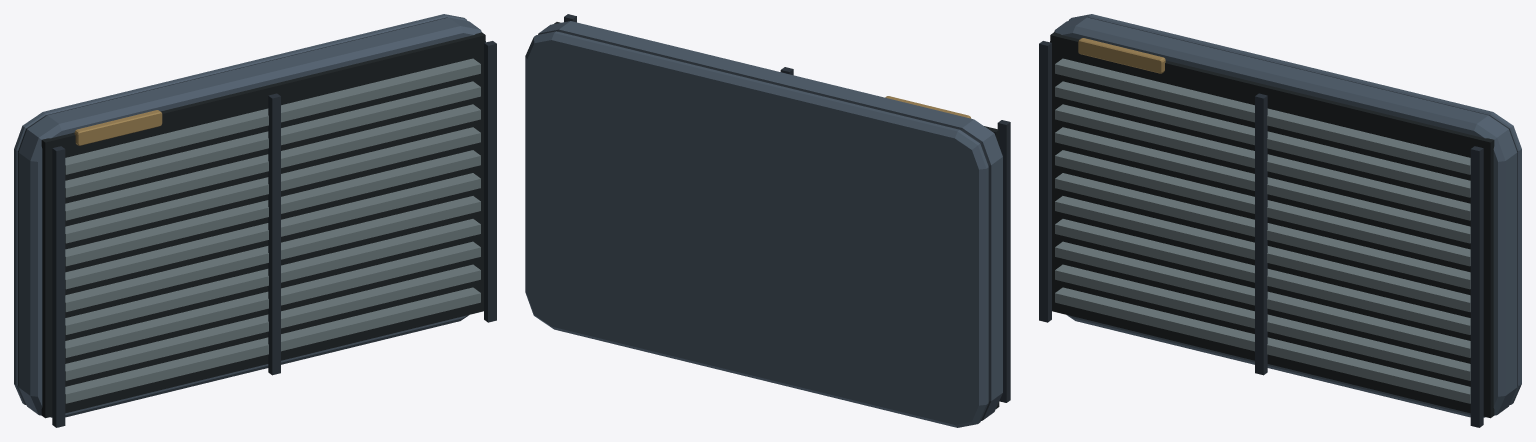
The model's file is HV-06_return_louvres.glb.
The picture shows the model from 3 angles, left to right: view 1: azimuth 30°, elevation 25°; view 2: azimuth 150°, elevation 25°; view 3: azimuth 330°, elevation 25°; orthographic projection.
Visible parts, largest first — view 1: HV-06_return_louvres; view 2: HV-06_return_louvres; view 3: HV-06_return_louvres.
Part boxes in pixels (x1,y1,x2,y2): HV-06_return_louvres: (14, 14, 496, 427); HV-06_return_louvres: (525, 14, 1010, 427); HV-06_return_louvres: (1039, 14, 1521, 427).
Bounding box in the file's own units: 4.72 × 2.9 × 0.6415.
